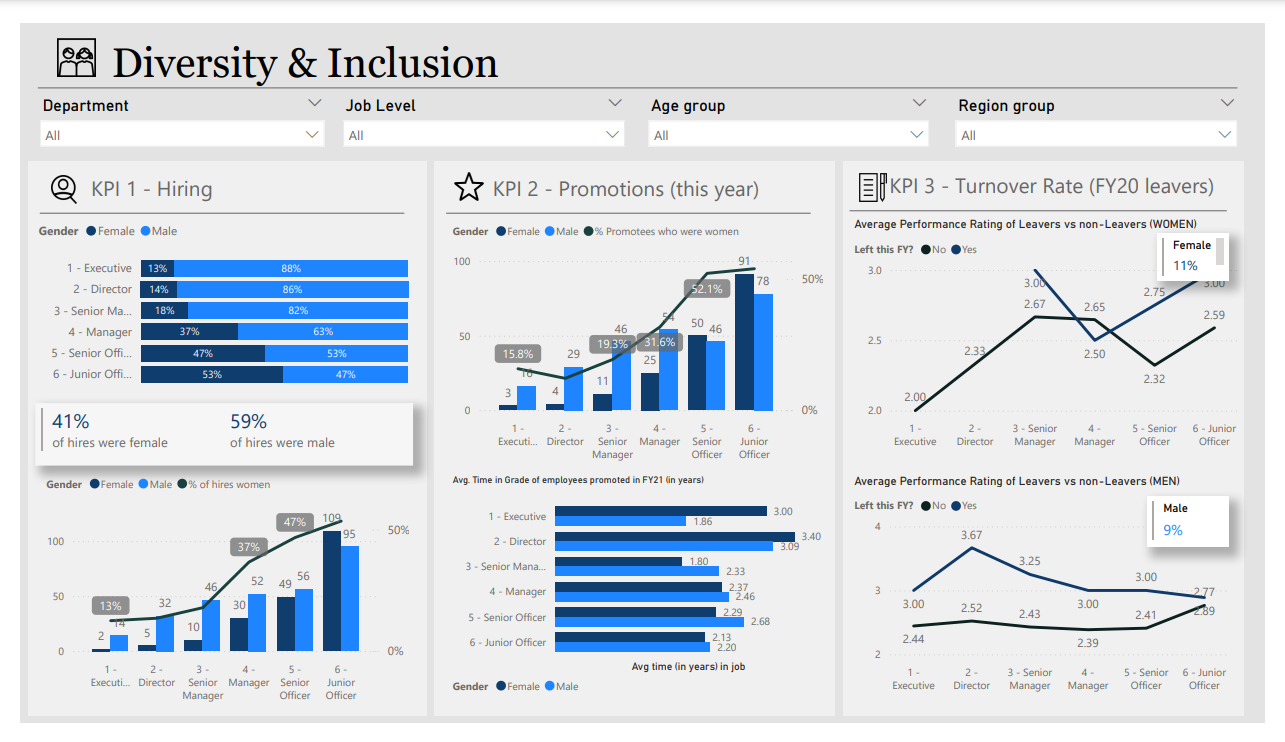

The dashboard page shown, as its layout file describes it:
{"tool":"powerbi","page":{"name":"HR Manager (1/2)","canvas":[1280,720],"ordinal":0},"visuals":[{"type":"textbox","box":[89.3,10.9,1172.7,68.8],"z":0},{"type":"basicShape","box":[8.4,45.8,1253.5,41],"z":1000},{"type":"basicShape","box":[3.6,136.3,418.6,582.7],"z":2000},{"type":"hundredPercentStackedBarChart","fields":{"Series":["HR Manager.Gender"],"Y":["CountNonNull(HR Manager.Employee ID)"],"Category":["HR Manager.Job Level after FY20 promotions"]},"box":[14.5,193.9,389.7,190],"z":3000},{"type":"multiRowCard","fields":{"Values":["HR Manager.% of hires women","HR Manager.% of hires men"]},"box":[15.7,390.9,388.5,63.9],"z":4000},{"type":"lineClusteredColumnComboChart","fields":{"Category":["HR Manager.Job Level after FY20 promotions"],"Series":["HR Manager.Gender"],"Y":["CountNonNull(HR Manager.Employee ID)"],"Y2":["HR Manager.% of hires women"]},"box":[21.7,454.8,382.4,250.9],"z":5000},{"type":"textbox","box":[67.6,149.6,302.8,38.6],"z":6000},{"type":"basicShape","box":[9.6,175.6,395.5,39.5],"z":7000},{"type":"basicShape","box":[422.3,136.3,419.8,582.7],"z":8000},{"type":"textbox","box":[481.4,149.6,307.6,42.2],"z":9000},{"type":"basicShape","box":[427.7,175.9,395.5,39.5],"z":10000},{"type":"image","box":[441.6,147.2,39.8,41],"z":11000},{"type":"lineClusteredColumnComboChart","fields":{"Y":["CountNonNull(HR Manager.Employee ID)"],"Series":["HR Manager.Gender"],"Y2":["HR Manager.% Promotees who were women"],"Category":["HR Manager.Job Level after FY21 promotions"]},"box":[440.4,195.4,389.7,263],"z":12000},{"type":"image","box":[25.3,10.9,63.9,49.5],"z":14000},{"type":"image","box":[25.3,152,39.8,38.6],"z":15000},{"type":"basicShape","box":[842.1,136.3,419.8,582.7],"z":16000},{"type":"basicShape","box":[843.4,173,408,39.5],"z":17000},{"type":"textbox","box":[889.1,147.2,353.5,100.1],"z":18000},{"type":"clusteredBarChart","title":"Avg. Time in Grade of employees promoted in FY21 (in years)","fields":{"Category":["HR Manager.Job Level after FY20 promotions"],"Series":["HR Manager.Gender"],"Y":["Avg(HR Manager.Time in Job Level @01.07.2020)"]},"box":[440.4,464.5,389.7,235.3],"z":19000},{"type":"lineChart","title":"Average Performance Rating of Leavers vs non-Leavers (WOMEN)","fields":{"Category":["HR Manager.Job Level after FY20 promotions"],"Y":["Avg(HR Manager.FY19 Performance Rating)"],"Series":["HR Manager.FY20 leaver?"]},"box":[853,200.3,409,246.1],"z":20000},{"type":"lineChart","title":"Average Performance Rating of Leavers vs non-Leavers (MEN)","fields":{"Category":["HR Manager.Job Level after FY20 promotions"],"Y":["Avg(HR Manager.FY19 Performance Rating)"],"Series":["HR Manager.FY20 leaver?"]},"box":[853,464.5,398.1,232.8],"z":21000},{"type":"multiRowCard","fields":{"Values":["HR Manager.Gender","HR Manager.% Turnover"]},"box":[1169,216,73.6,49.5],"z":22000},{"type":"multiRowCard","fields":{"Values":["HR Manager.Gender","HR Manager.% Turnover"]},"box":[1159.4,487.4,83.2,51.9],"z":23000},{"type":"slicer","fields":{"Values":["HR Manager.Last Department in FY20"]},"box":[9.7,68.8,313.7,73.6],"z":24000},{"type":"slicer","fields":{"Values":["HR Manager.Job Level after FY20 promotions"]},"box":[322.1,68.8,310.1,63.9],"z":25000},{"type":"slicer","fields":{"Values":["HR Manager.Age group"]},"box":[635.8,68.8,308.8,63.9],"z":26000},{"type":"slicer","fields":{"Values":["HR Manager.Broad region group: nationality 1"]},"box":[951.9,68.8,310.1,60.3],"z":27000},{"type":"image","box":[853,149.6,47.1,38.6],"z":28000}]}

Visuals, with their boxes in screenshot pixels (x1, y1, x2, y2), scaled from the page's 1280x720 canvas onto the 1285x742 screenshot:
textbox: (90,11,1267,82)
basicShape: (8,47,1267,89)
basicShape: (4,140,424,741)
hundredPercentStackedBarChart - HR Manager.Gender x CountNonNull(HR Manager.Employee ID): (15,200,406,396)
multiRowCard - HR Manager.% of hires women x HR Manager.% of hires men: (16,403,406,469)
lineClusteredColumnComboChart - HR Manager.Job Level after FY20 promotions x HR Manager.Gender: (22,469,406,727)
textbox: (68,154,372,194)
basicShape: (10,181,407,222)
basicShape: (424,140,845,741)
textbox: (483,154,792,198)
basicShape: (429,181,826,222)
image: (443,152,483,194)
lineClusteredColumnComboChart - CountNonNull(HR Manager.Employee ID) x HR Manager.Gender: (442,201,833,472)
image: (25,11,90,62)
image: (25,157,65,196)
basicShape: (845,140,1267,741)
basicShape: (847,178,1256,219)
textbox: (893,152,1247,255)
"Avg. Time in Grade of employees promoted in FY21 (in years)" clusteredBarChart: (442,479,833,721)
"Average Performance Rating of Leavers vs non-Leavers (WOMEN)" lineChart: (856,206,1267,460)
"Average Performance Rating of Leavers vs non-Leavers (MEN)" lineChart: (856,479,1256,719)
multiRowCard - HR Manager.Gender x HR Manager.% Turnover: (1174,223,1247,274)
multiRowCard - HR Manager.Gender x HR Manager.% Turnover: (1164,502,1247,556)
slicer - HR Manager.Last Department in FY20: (10,71,325,147)
slicer - HR Manager.Job Level after FY20 promotions: (323,71,635,137)
slicer - HR Manager.Age group: (638,71,948,137)
slicer - HR Manager.Broad region group: nationality 1: (956,71,1267,133)
image: (856,154,904,194)
